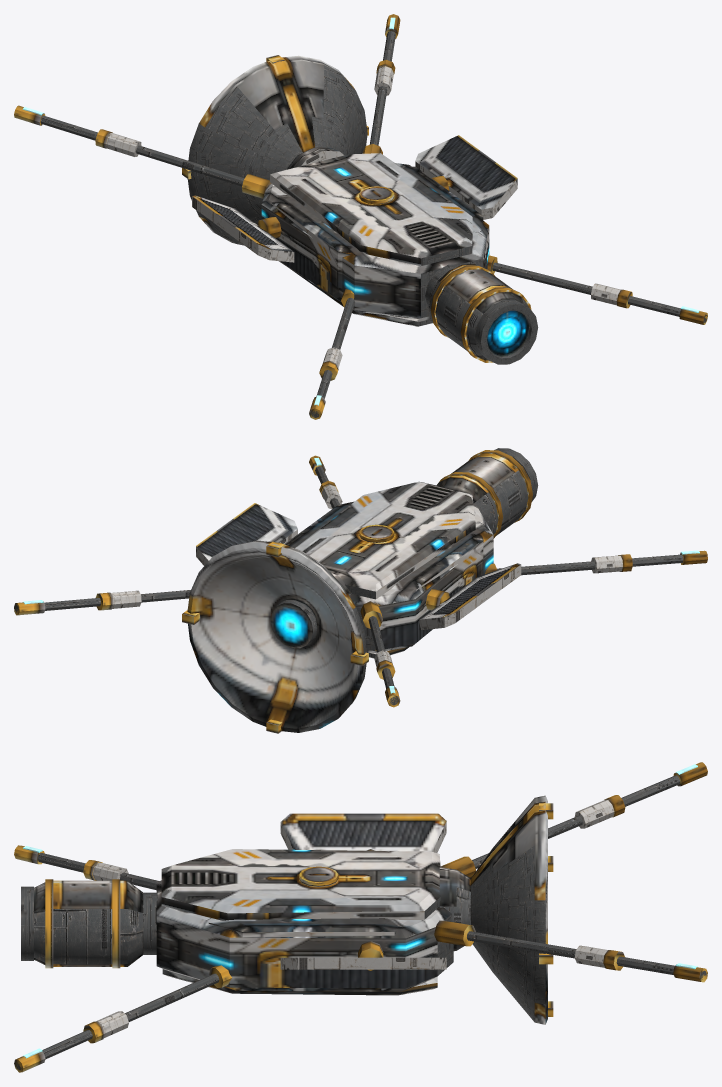
The model's file is survey-probe.glb.
3 views of the same model, one above another, from view 1: azimuth 30°, elevation 25°; view 2: azimuth 150°, elevation 25°; view 3: azimuth 270°, elevation 25° (orthographic). The views are drawn at different scales.
Visible parts, largest first — view 1: hull / Reference titanium and industrial fittings, hull / Ventral reference plating; view 2: hull / Reference titanium and industrial fittings, hull / Ventral reference plating; view 3: hull / Reference titanium and industrial fittings, hull / Ventral reference plating.
Part boxes in pixels (x1,y1,x2,y2): hull / Reference titanium and industrial fittings: [14, 14, 707, 419]; hull / Ventral reference plating: [199, 216, 488, 360]; hull / Reference titanium and industrial fittings: [14, 448, 707, 733]; hull / Ventral reference plating: [215, 510, 525, 658]; hull / Reference titanium and industrial fittings: [14, 762, 707, 1072]; hull / Ventral reference plating: [34, 906, 545, 1024].
Bounding box in the file's own units: 4.31 × 1.92 × 5.78.
2 materials, 2 textured.
